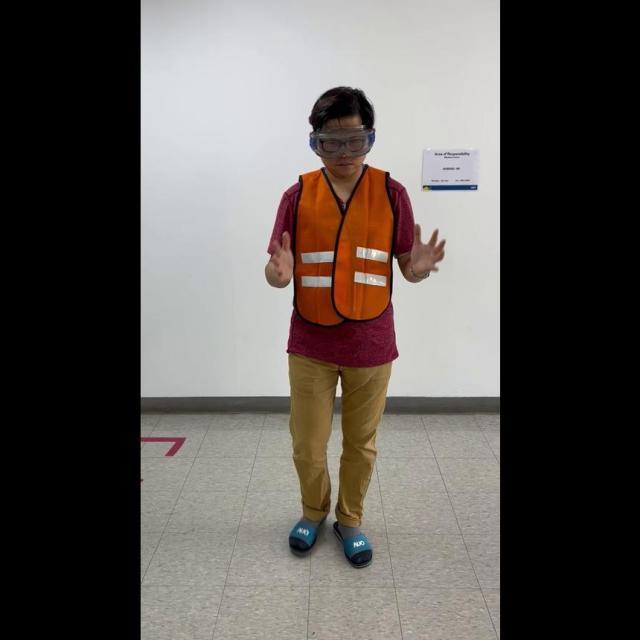bare_hand: (408, 220, 447, 278), (263, 225, 294, 284)
